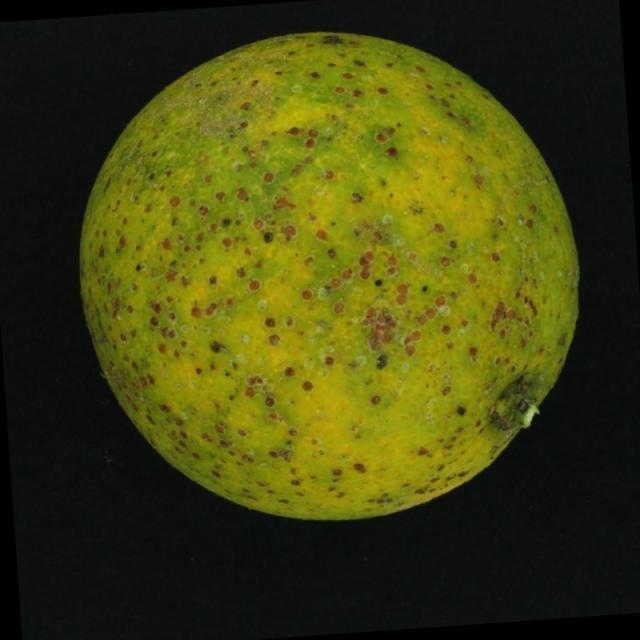grenning: (50, 22, 607, 539)
